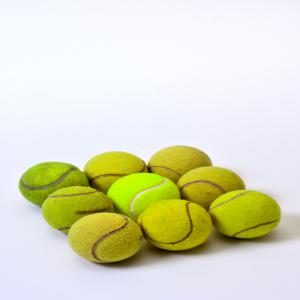TennisBall: (20, 144, 283, 267), (210, 192, 281, 243)
